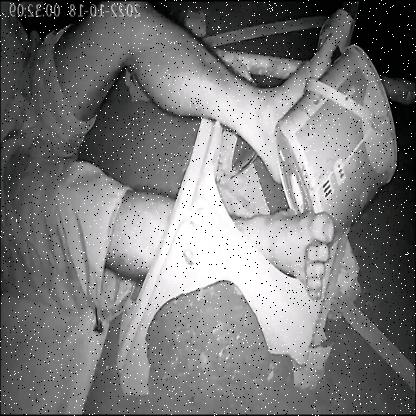leg: (60, 0, 340, 187), (237, 194, 340, 310)
